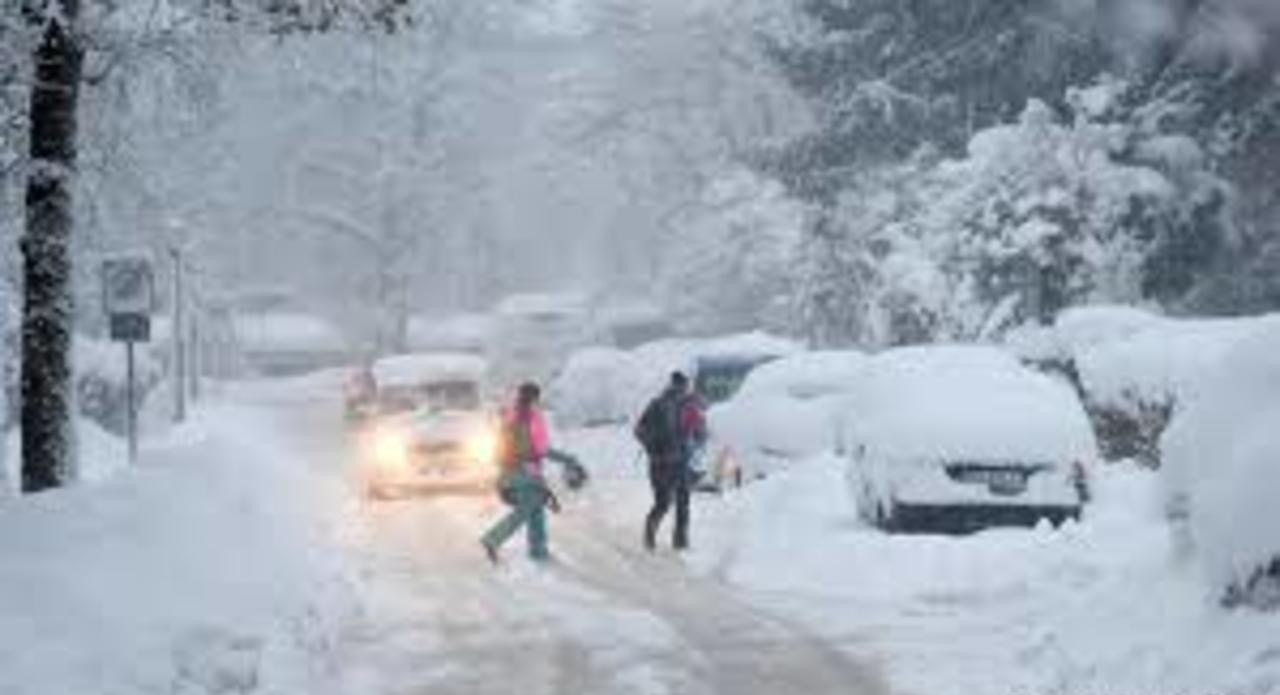car: (860, 355, 1098, 528), (697, 354, 848, 495), (366, 356, 503, 490), (546, 341, 632, 425)
person: (480, 378, 578, 563), (637, 369, 707, 551)
